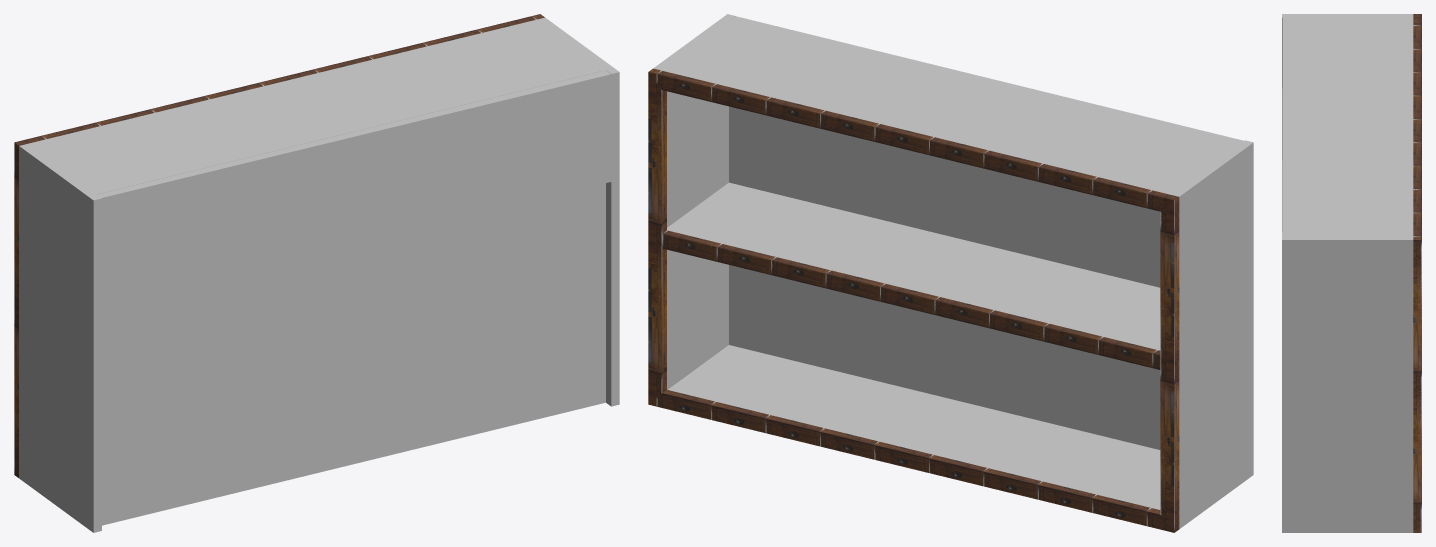
3 renders of one model, left to right at view 1: azimuth 30°, elevation 25°; view 2: azimuth 150°, elevation 25°; view 3: azimuth 270°, elevation 25°, orthographic. The views are drawn at different scales.
Parts seen in each view (by area): view 1: mesh5_mesh5-geometry, mesh1_mesh1-geometry, mesh3_mesh3-geometry, mesh7_mesh7-geometry, mesh9_mesh9-geometry, mesh11_mesh11-geometry, mesh15_mesh15-geometry; view 2: mesh1_mesh1-geometry, mesh5_mesh5-geometry, mesh3_mesh3-geometry, mesh15_mesh15-geometry, mesh11_mesh11-geometry, mesh13_mesh13-geometry, mesh17_mesh17-geometry, mesh7_mesh7-geometry; view 3: mesh3_mesh3-geometry, mesh1_mesh1-geometry, mesh15_mesh15-geometry, mesh7_mesh7-geometry, mesh11_mesh11-geometry, mesh5_mesh5-geometry.
Part boxes in pixels (box(x1,y1,x2,y2)): mesh5_mesh5-geometry: box(95, 69, 605, 525); mesh1_mesh1-geometry: box(28, 19, 603, 192); mesh3_mesh3-geometry: box(19, 17, 619, 532); mesh7_mesh7-geometry: box(97, 70, 611, 256); mesh9_mesh9-geometry: box(102, 133, 611, 305); mesh11_mesh11-geometry: box(14, 14, 544, 145); mesh15_mesh15-geometry: box(14, 142, 18, 477); mesh1_mesh1-geometry: box(662, 21, 1237, 509); mesh5_mesh5-geometry: box(729, 20, 1239, 449); mesh3_mesh3-geometry: box(653, 14, 1253, 528); mesh15_mesh15-geometry: box(648, 72, 1179, 532); mesh11_mesh11-geometry: box(648, 68, 1178, 211); mesh13_mesh13-geometry: box(648, 390, 1173, 532); mesh17_mesh17-geometry: box(662, 230, 1160, 369); mesh7_mesh7-geometry: box(731, 16, 1243, 144); mesh3_mesh3-geometry: box(1282, 14, 1413, 532); mesh1_mesh1-geometry: box(1294, 17, 1413, 236); mesh15_mesh15-geometry: box(1413, 240, 1421, 532); mesh7_mesh7-geometry: box(1282, 17, 1291, 236); mesh11_mesh11-geometry: box(1413, 14, 1421, 239); mesh5_mesh5-geometry: box(1291, 17, 1294, 236).
Bounding box in the file's own units: 0.8354 × 0.5045 × 0.2181.
